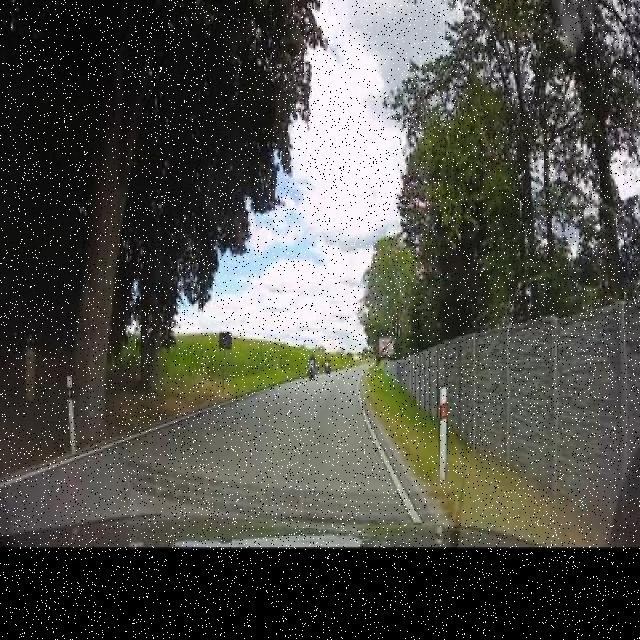clear-road: (120, 366, 394, 492)
